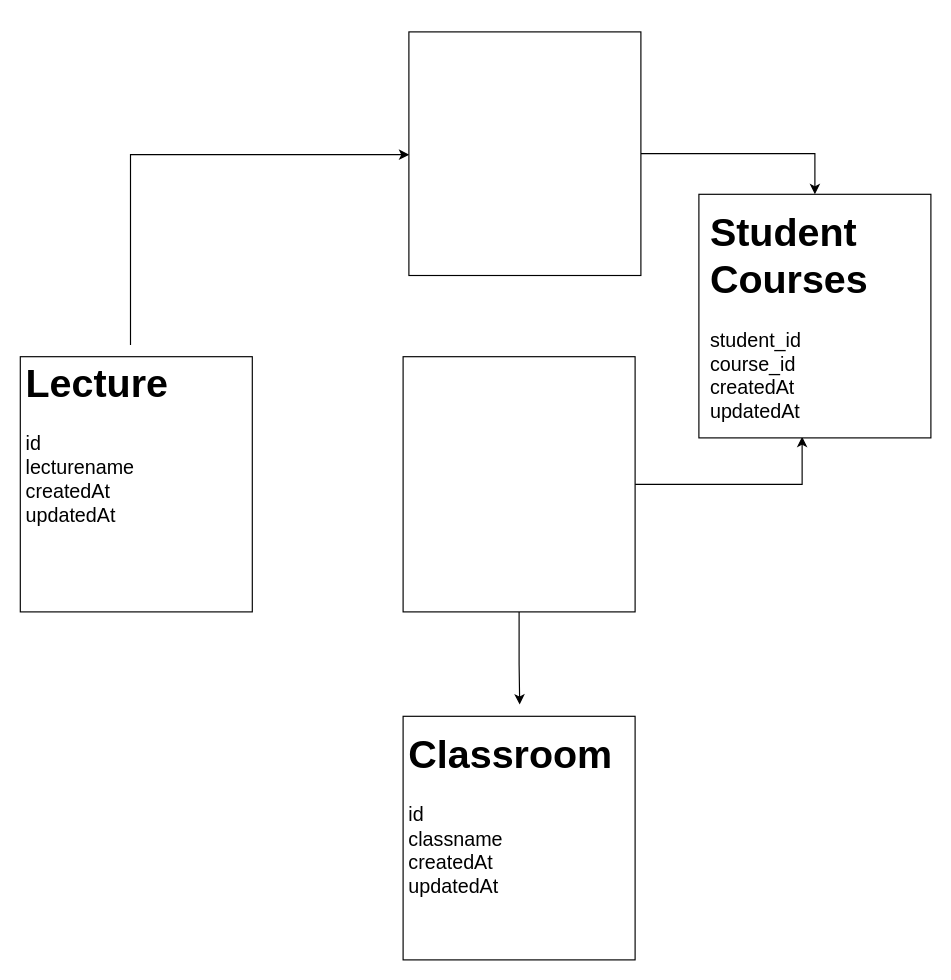
The diagram is 951 pixels wide and 980 high, and some of its shapes have lost their labels. Each missing label, with the box of its shape:
Courses id lecture id course_name createdAt updatedAt: (408, 31, 641, 276)
Student id classroom_id student_name createdAt updatedAt: (402, 356, 635, 612)
